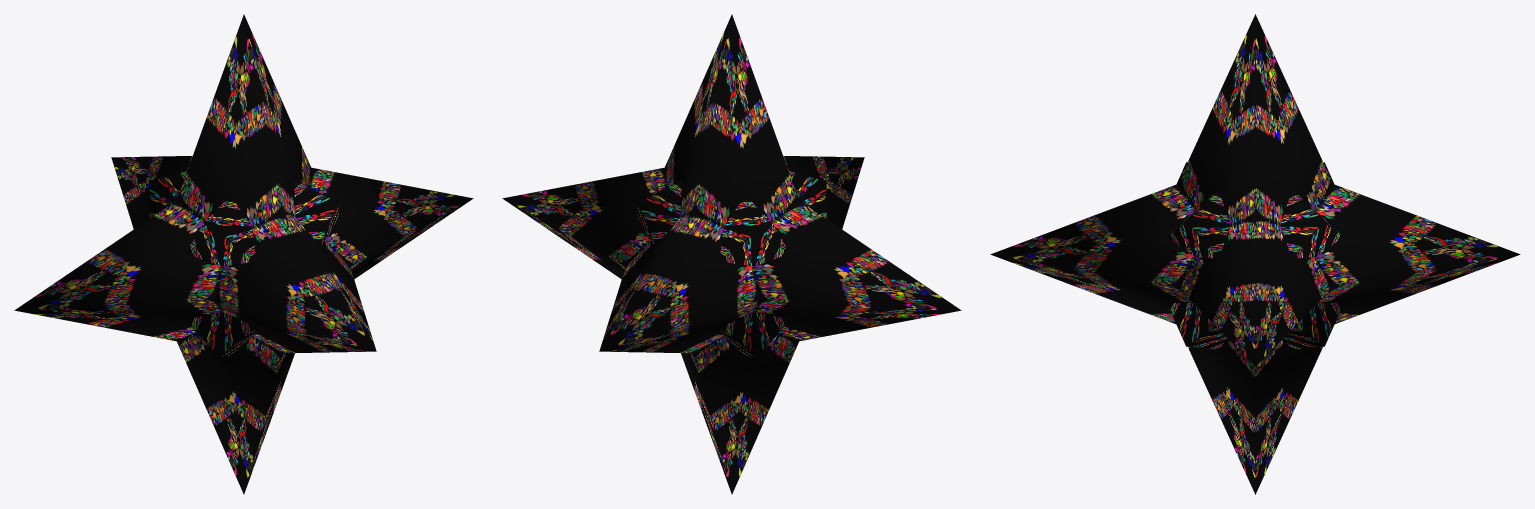
Rendered from 34GreatHexacronicIcositetrahedron.gltf.
The picture shows the model from 3 angles, left to right: view 1: azimuth 30°, elevation 25°; view 2: azimuth 150°, elevation 25°; view 3: azimuth 270°, elevation 25°; orthographic projection.
Visible parts, largest first — view 1: GreatHexacronicIcositetrahedron9; view 2: GreatHexacronicIcositetrahedron9; view 3: GreatHexacronicIcositetrahedron9.
Part boxes in pixels (box(x1,y1,x2,y2)): GreatHexacronicIcositetrahedron9: box(14, 14, 473, 494); GreatHexacronicIcositetrahedron9: box(502, 14, 961, 494); GreatHexacronicIcositetrahedron9: box(990, 14, 1520, 494).
Bounding box in the file's own units: 2.83 × 2.83 × 2.83.
1 material, 1 textured.
